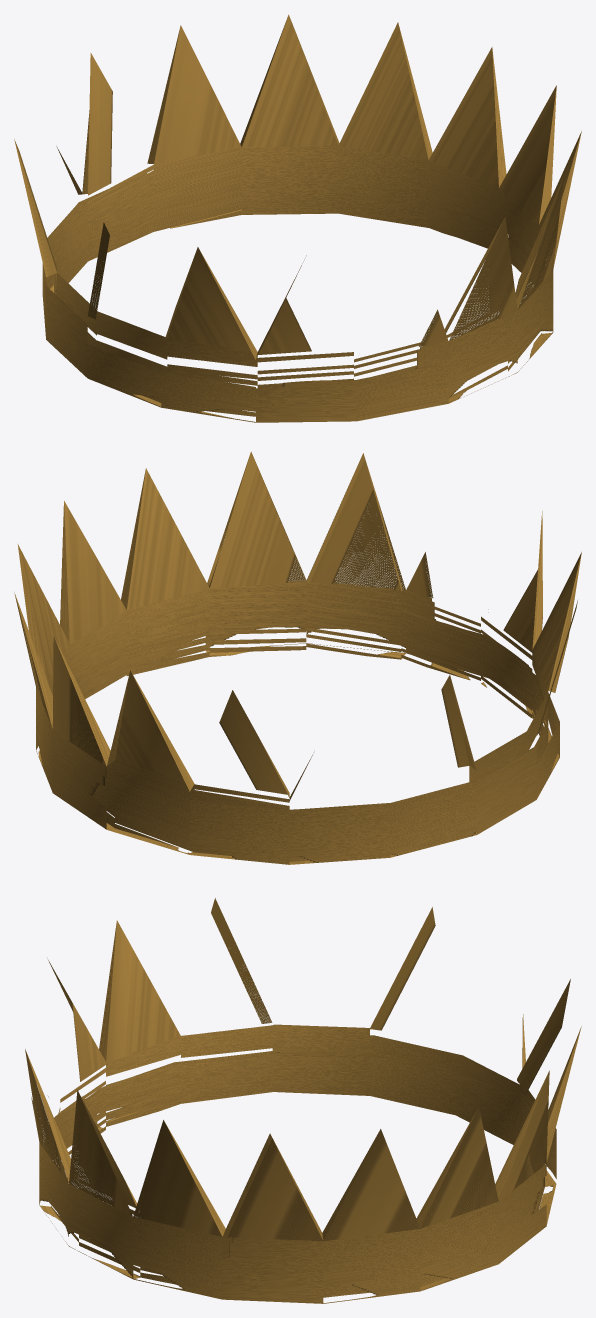
File: Elec_crown.fbx
3 views of the same model, one above another, from view 1: azimuth 30°, elevation 25°; view 2: azimuth 150°, elevation 25°; view 3: azimuth 270°, elevation 25° (orthographic).
Visible parts, largest first — view 1: Cylinder; view 2: Cylinder; view 3: Cylinder.
Boxes of the visible parts, x1,y1,x2,y2 form: Cylinder: (14,14,581,422); Cylinder: (14,451,581,864); Cylinder: (25,898,581,1303).
Size of the model in its own units: 203 by 72.28 by 203.
1 material, 1 textured.
